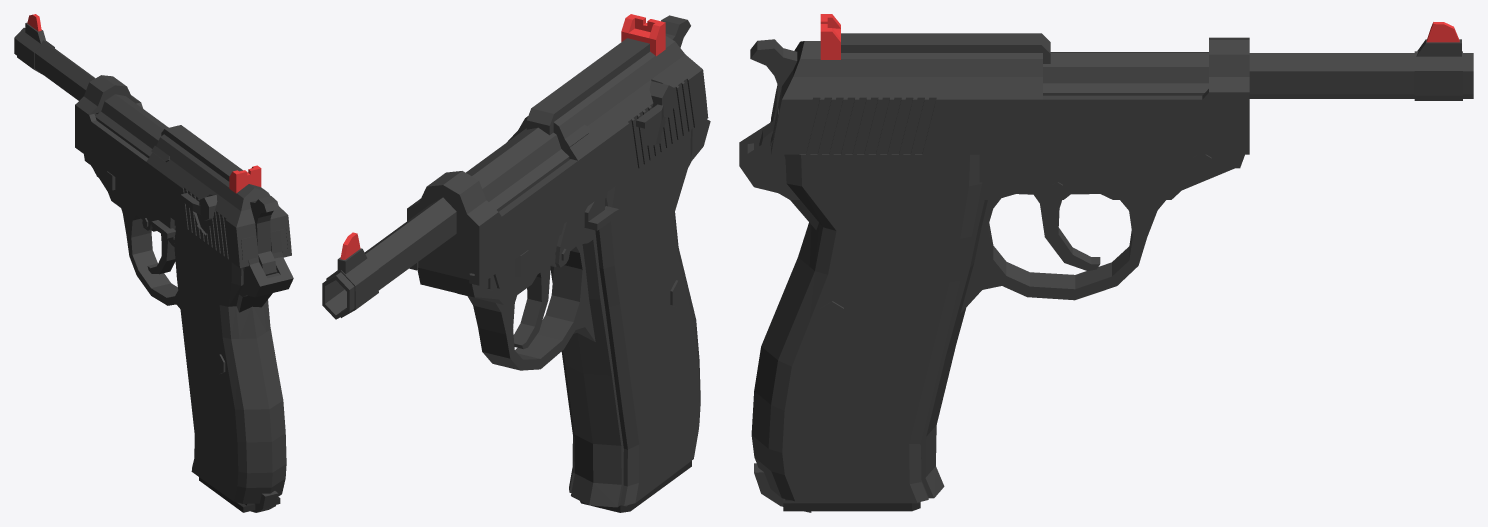
Rendered from pistol_9.glb.
3 views of the same model, side by side, from view 1: azimuth 30°, elevation 25°; view 2: azimuth 150°, elevation 25°; view 3: azimuth 270°, elevation 25° (orthographic). The views are drawn at different scales.
Visible parts, largest first — view 1: p15_paint, p4_paint, p0_paint, p5_paint, p8_paint, p13_paint, p20_paint, p11_paint, p19_del, p1_paint, p9_paint, p23_mag (+2 smaller); view 2: p15_paint, p4_paint, p5_paint, p0_paint, p8_paint, p13_paint, p9_paint, p11_paint, p19_del, p1_paint, p7_paint, p17_paint (+2 smaller); view 3: p15_paint, p4_paint, p0_paint, p5_paint, p8_paint, p13_paint, p10_paint, p1_paint, p9_paint, p20_paint, p23_mag, p19_del.
Part boxes in pixels (left/top/right/bottom): p15_paint: left=173, top=223, right=286, bottom=503; p4_paint: left=75, top=75, right=291, bottom=268; p0_paint: left=14, top=27, right=168, bottom=158; p5_paint: left=84, top=154, right=293, bottom=312; p8_paint: left=121, top=208, right=180, bottom=308; p13_paint: left=161, top=125, right=242, bottom=181; p20_paint: left=250, top=196, right=279, bottom=275; p11_paint: left=142, top=201, right=175, bottom=238; p19_del: left=229, top=165, right=261, bottom=193; p1_paint: left=17, top=32, right=54, bottom=74; p9_paint: left=147, top=234, right=175, bottom=274; p23_mag: left=199, top=477, right=280, bottom=512; p15_paint: left=550, top=128, right=700, bottom=505; p4_paint: left=407, top=36, right=708, bottom=285; p5_paint: left=417, top=119, right=710, bottom=507; p0_paint: left=322, top=127, right=570, bottom=319; p8_paint: left=467, top=244, right=595, bottom=370; p13_paint: left=526, top=38, right=649, bottom=135; p9_paint: left=513, top=266, right=550, bottom=348; p11_paint: left=555, top=194, right=619, bottom=267; p19_del: left=621, top=14, right=665, bottom=56; p1_paint: left=326, top=256, right=378, bottom=317; p7_paint: left=493, top=250, right=528, bottom=288; p17_paint: left=649, top=81, right=675, bottom=117; p15_paint: left=751, top=154, right=982, bottom=502; p4_paint: left=771, top=37, right=1249, bottom=154; p0_paint: left=1043, top=52, right=1473, bottom=98; p5_paint: left=739, top=87, right=1244, bottom=498; p8_paint: left=960, top=198, right=1165, bottom=313; p13_paint: left=841, top=33, right=1050, bottom=63; p10_paint: left=979, top=154, right=1089, bottom=182; p1_paint: left=1414, top=51, right=1462, bottom=100; p9_paint: left=1034, top=194, right=1100, bottom=270; p20_paint: left=750, top=39, right=797, bottom=145; p23_mag: left=783, top=498, right=920, bottom=511; p19_del: left=820, top=14, right=840, bottom=59.
Size of the model in its own units: 0.0291 by 0.1576 by 0.216.
